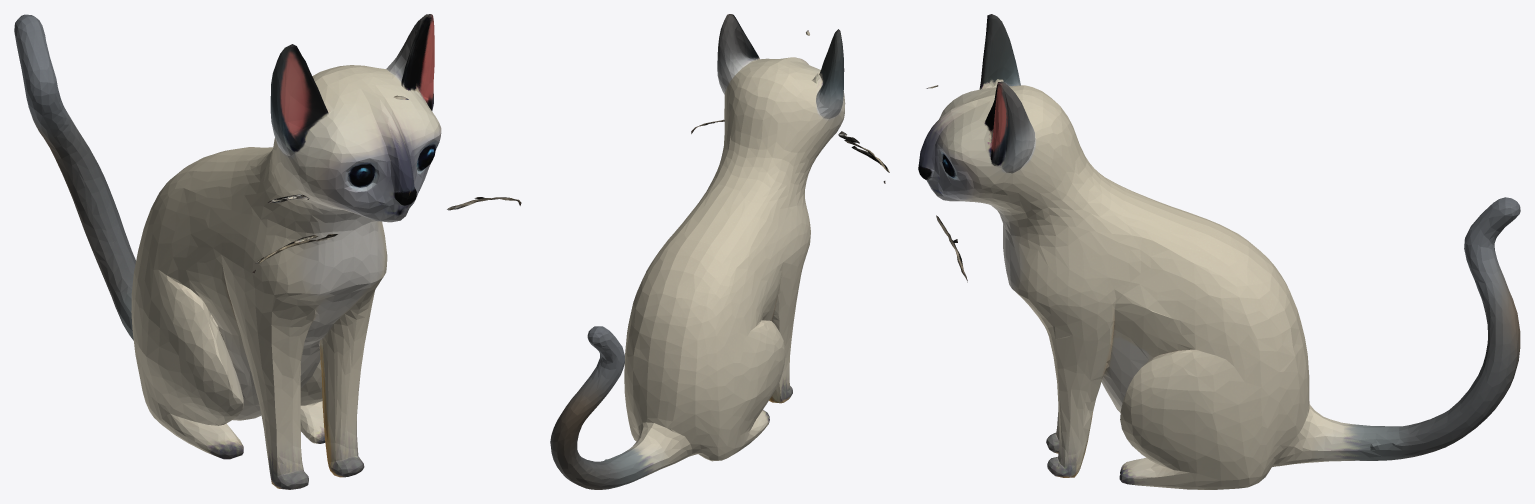
File: cat_04.glb
3 renders of one model, left to right at view 1: azimuth 30°, elevation 25°; view 2: azimuth 150°, elevation 25°; view 3: azimuth 270°, elevation 25°, orthographic. The views are drawn at different scales.
Parts seen in each view (by area): view 1: world; view 2: world; view 3: world.
Boxes of the visible parts, left/top/right/bottom form: world: left=14, top=14, right=521, bottom=489; world: left=550, top=14, right=889, bottom=489; world: left=918, top=14, right=1520, bottom=489.
Bounding box in the file's own units: 0.4484 × 0.7748 × 1.
Materials: 1 (1 with a texture image).
